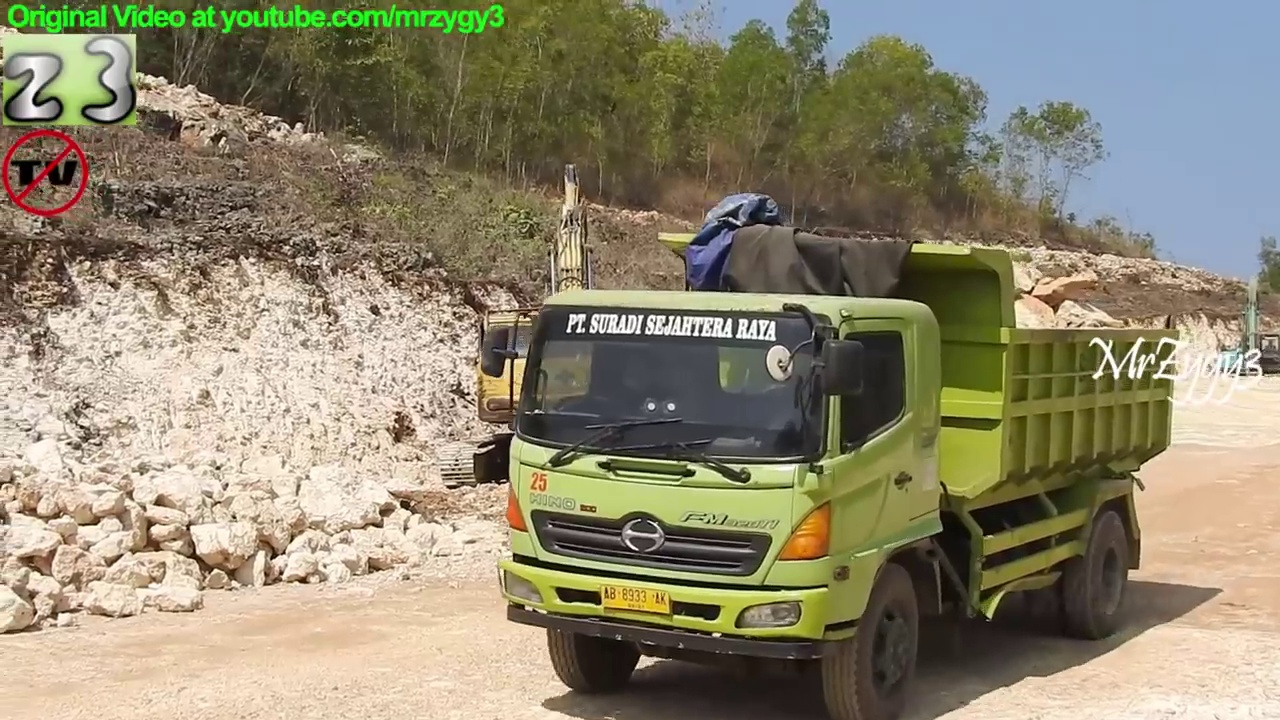excavator: (431, 155, 703, 498), (1209, 272, 1280, 392)
truck: (469, 223, 1189, 720)
